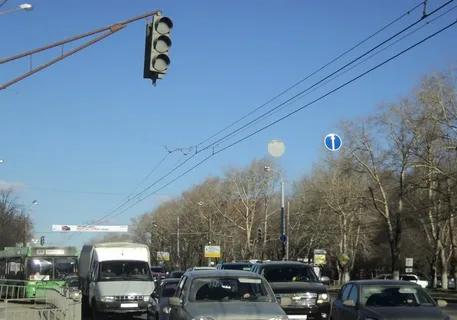off traffic light: (149, 15, 173, 73)
road_sign: (324, 133, 341, 151)
